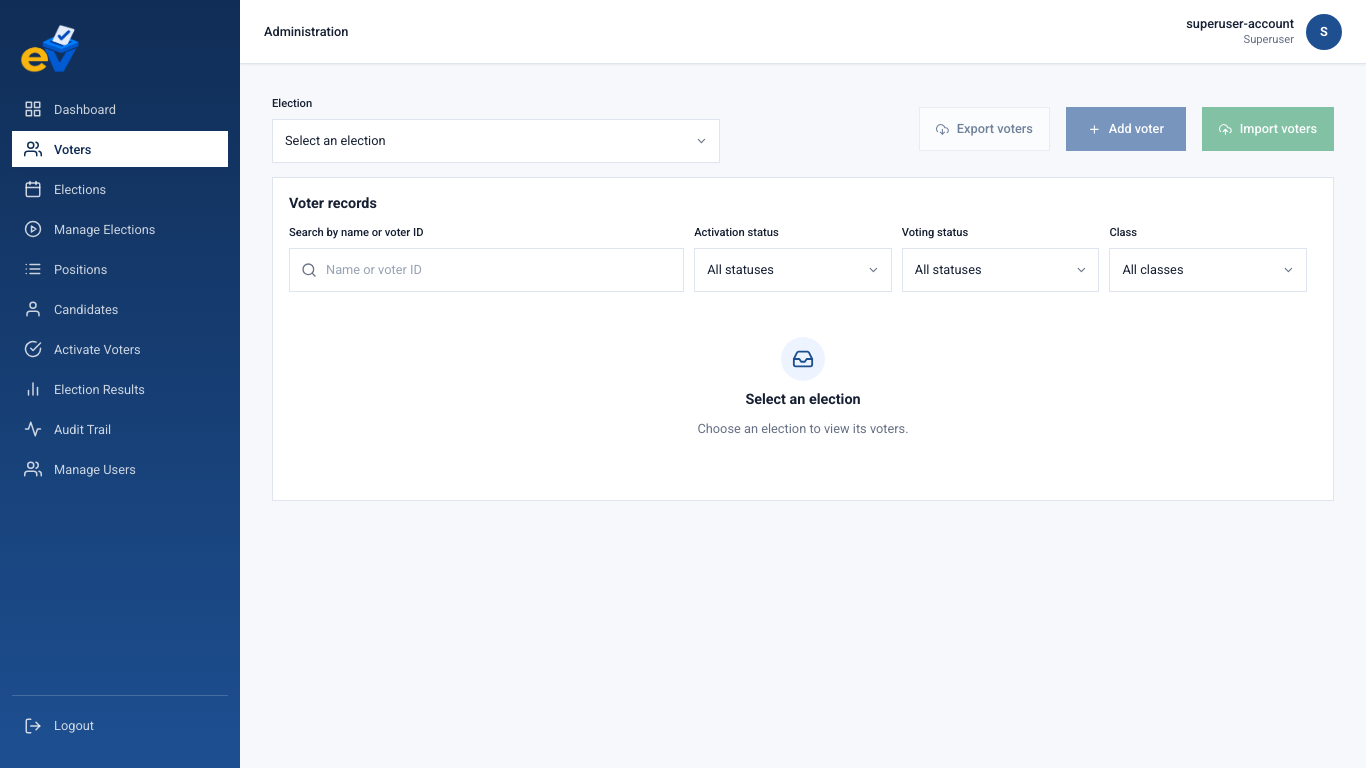
Test: activator and superuser restrictions › allows superusers to choose voters from either election
Select "Assigned Election (2026)" in the dropdown labelled "Election" at coordinates (496, 141), box [272, 119, 720, 163]
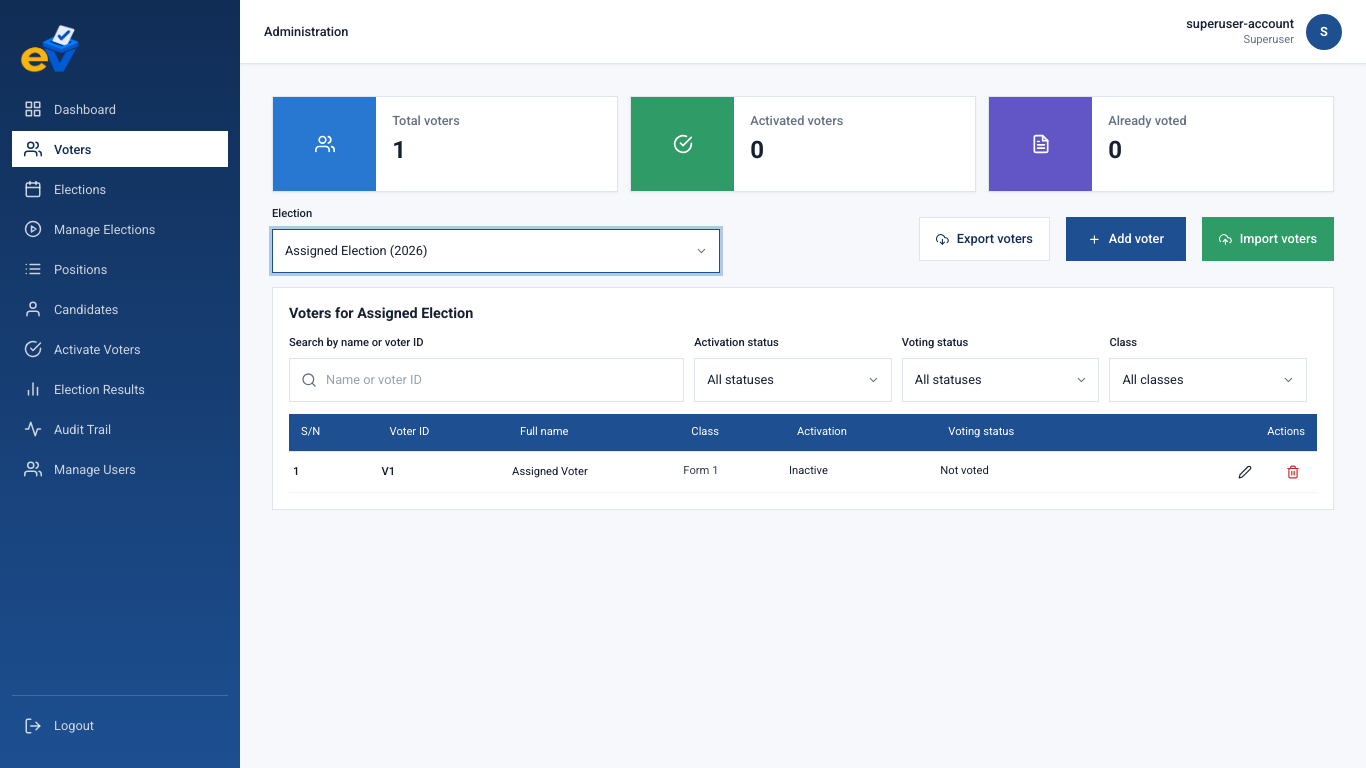
Expected: the heading "Voters for Assigned Election" is shown, [289, 304, 473, 323]
Select "Other Election (2026)" in the dropdown labelled "Election" at coordinates (496, 251), box [272, 229, 720, 273]
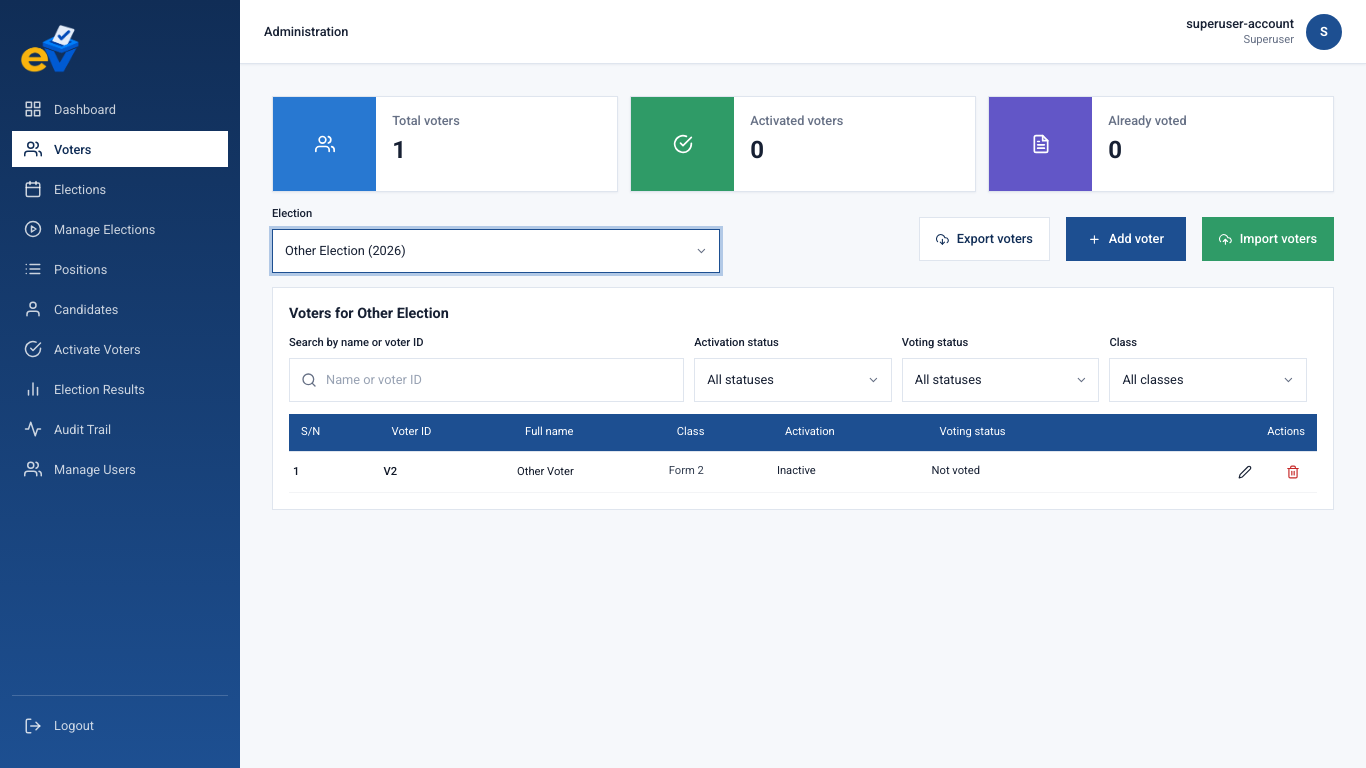
Expected: the heading "Voters for Other Election" is shown, [289, 304, 449, 323]
Expected: the text "Other Voter" is shown, [517, 465, 574, 478]
Expected: the text "Assigned Voter" is gone
